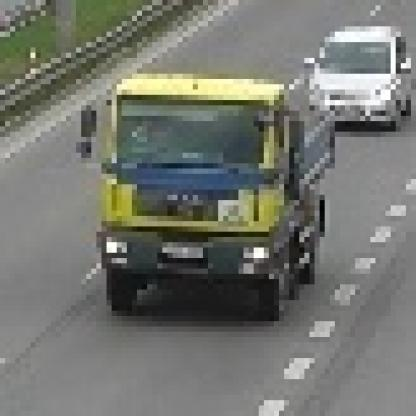truck: (82, 65, 321, 307)
